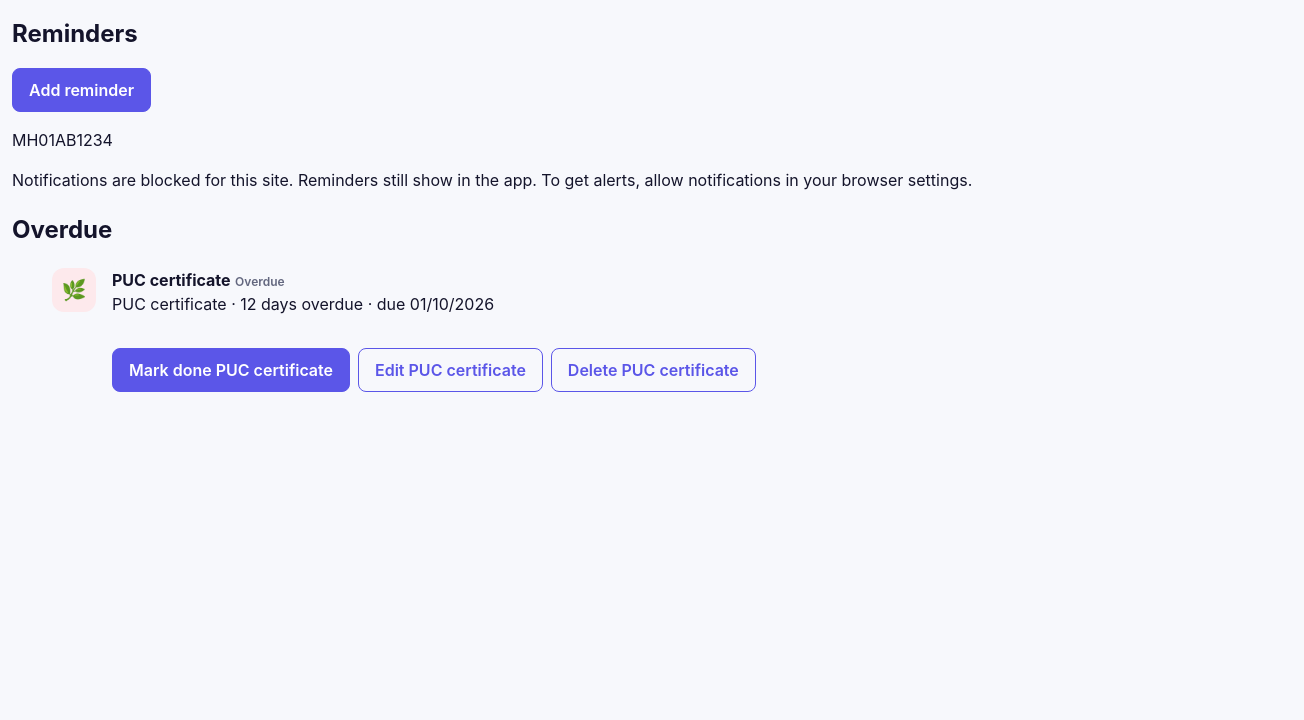
it: Mark done — TC-REM-03 › does not save when the expense has no amount
The width and height of the screenshot is (1304, 720).
Click the button "Mark done PUC certificate" at {"x": 231, "y": 370}, box x1=112 y1=348 x2=350 y2=392
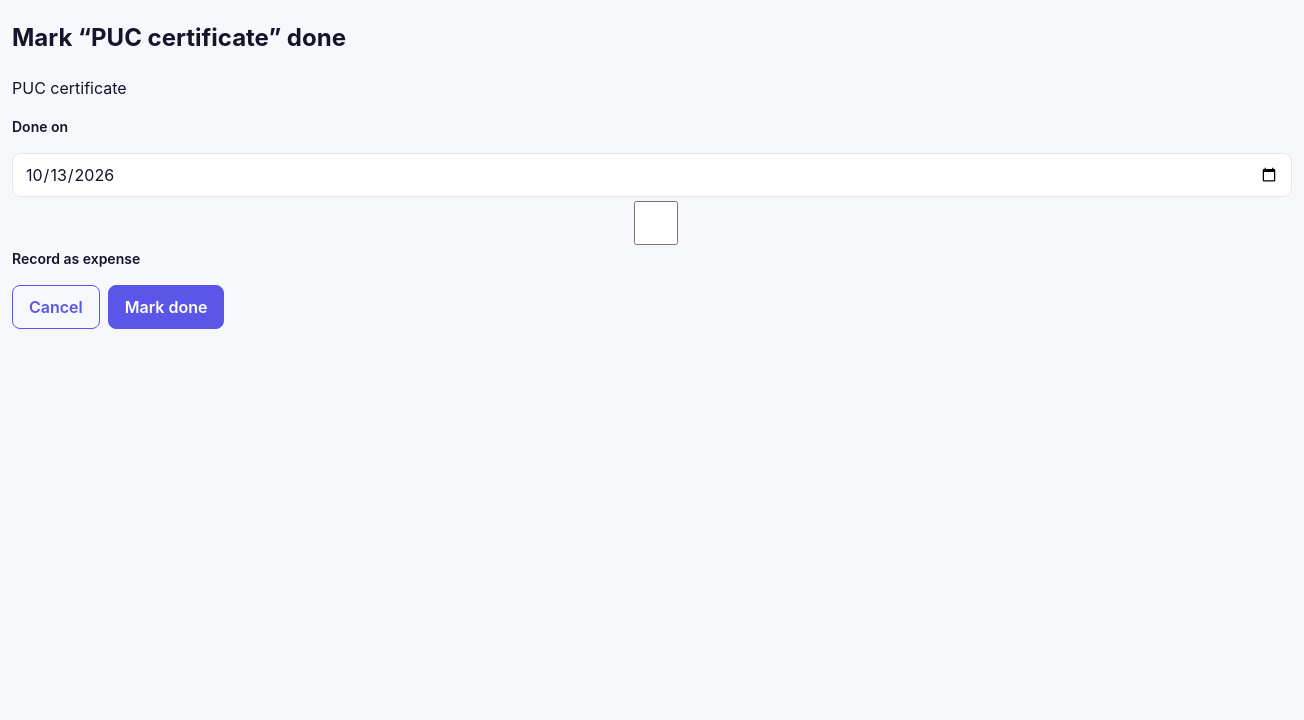
Click the checkbox labelled "Record as expense" at {"x": 654, "y": 223}, box x1=16 y1=201 x2=1292 y2=245
(page scrolled)
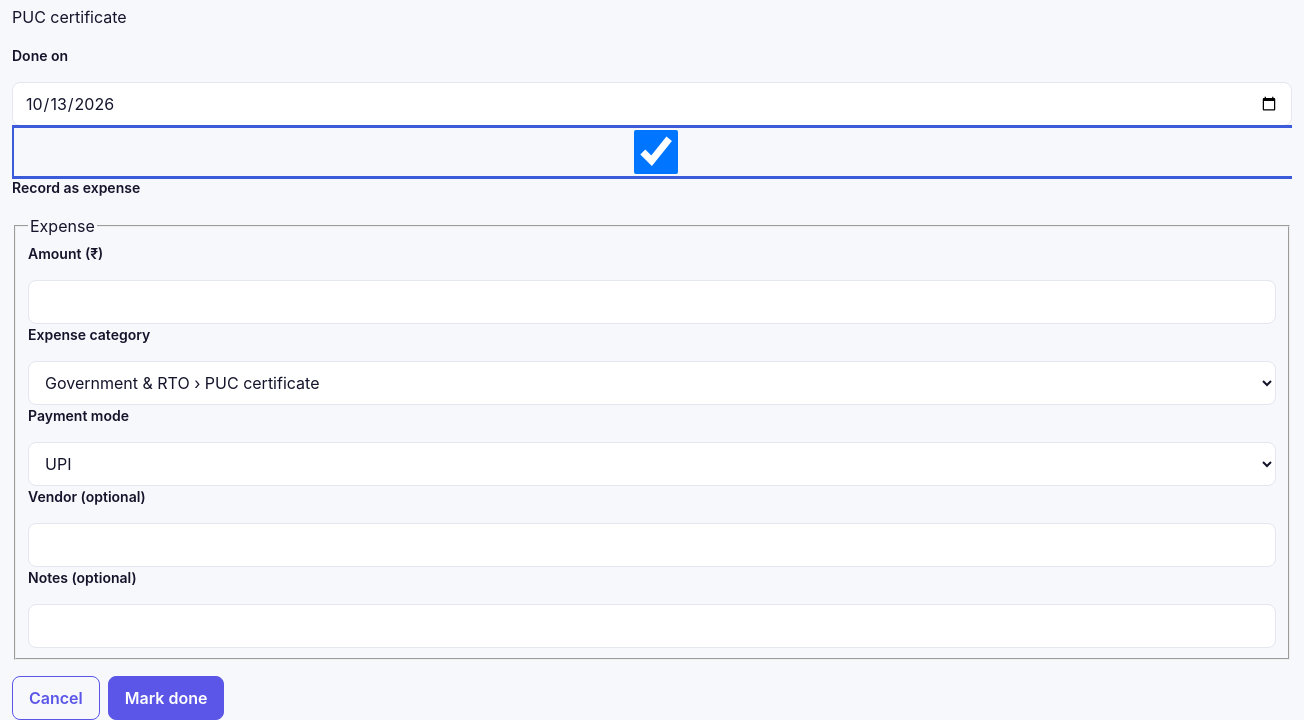
Click the button "Mark done" at {"x": 166, "y": 698}, box x1=108 y1=676 x2=224 y2=719
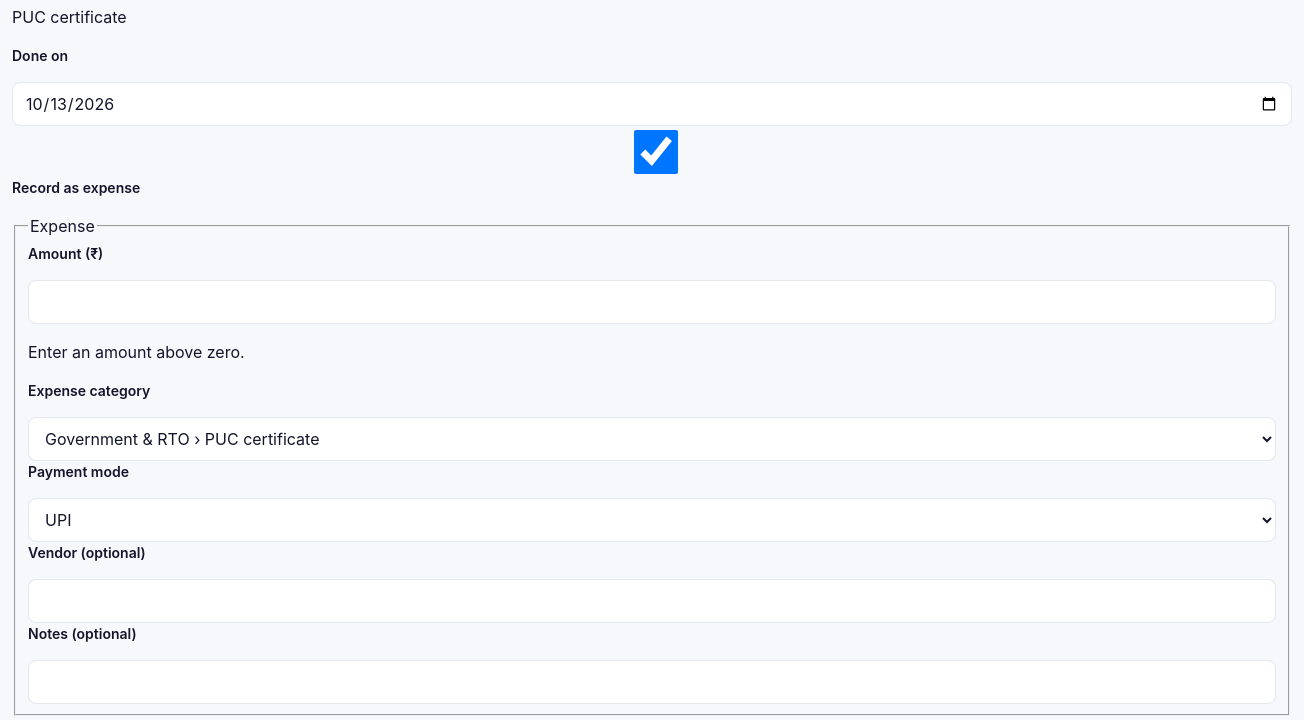
Expected: the text "Enter an amount above zero." is shown, x1=28 y1=342 x2=245 y2=362
